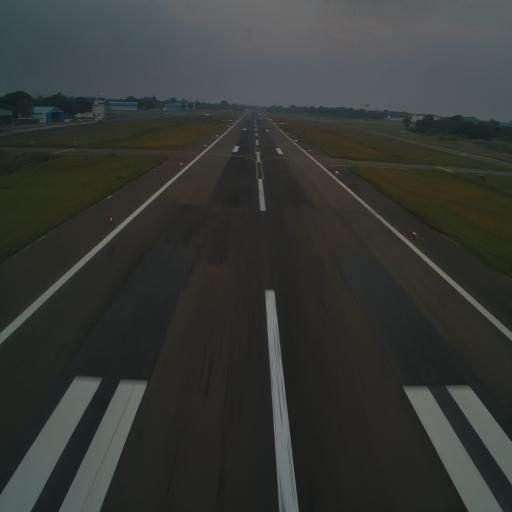on: (411, 230, 419, 238), (334, 167, 340, 177), (109, 216, 113, 224), (178, 162, 184, 167)
